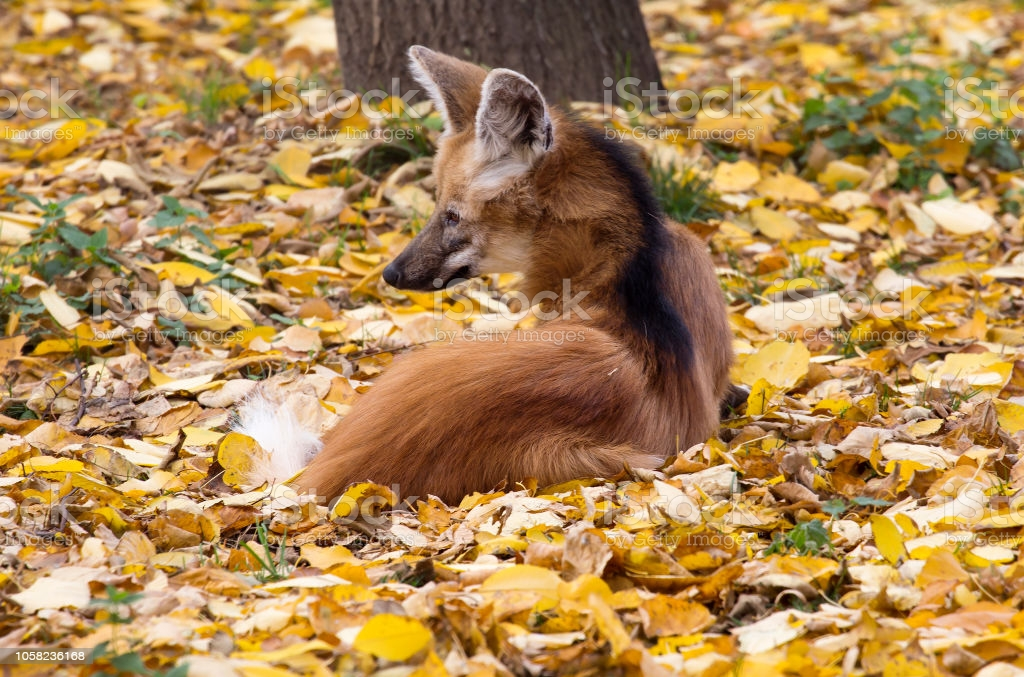LoboGuara: (285, 42, 756, 482)
